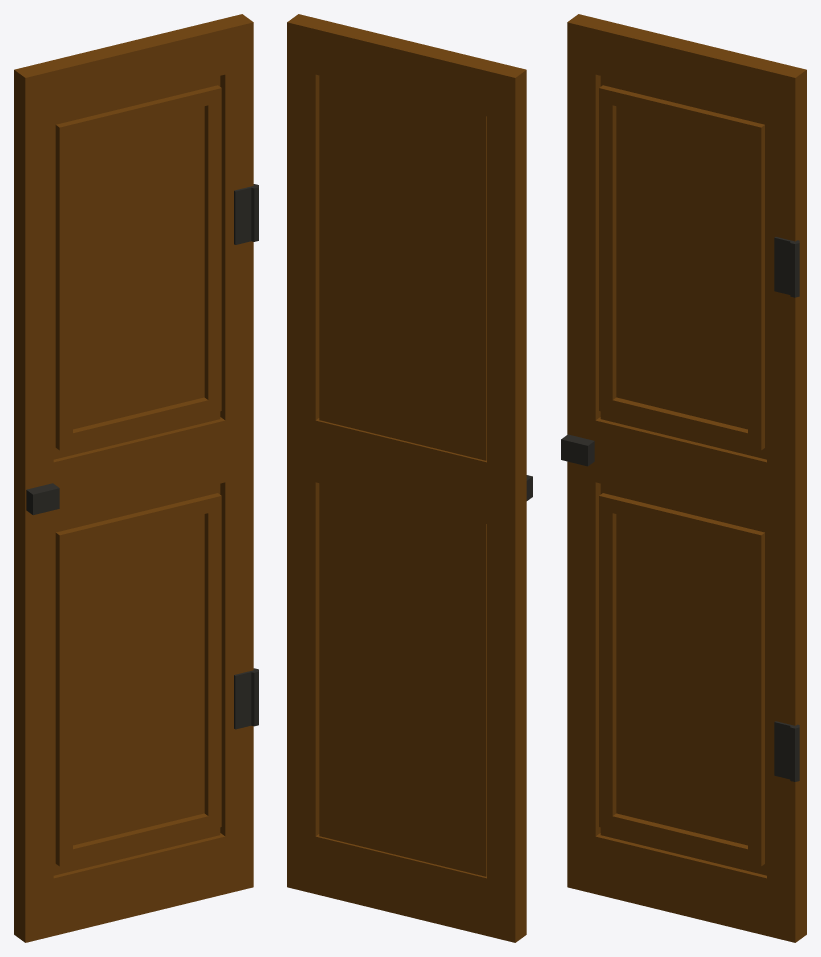
Rendered from SM_Wall_PhDoor_Right_01.fbx.
3 renders of one model, left to right at view 1: azimuth 30°, elevation 25°; view 2: azimuth 150°, elevation 25°; view 3: azimuth 330°, elevation 25°, orthographic.
Visible parts, largest first — view 1: SM_Wall_PhDoor_Right_01; view 2: SM_Wall_PhDoor_Right_01; view 3: SM_Wall_PhDoor_Right_01.
Boxes of the visible parts, x1,y1,x2,y2 form: SM_Wall_PhDoor_Right_01: [14, 14, 258, 942]; SM_Wall_PhDoor_Right_01: [287, 14, 532, 942]; SM_Wall_PhDoor_Right_01: [561, 14, 806, 942].
Bounding box in the file's own units: 0.592 × 2.1 × 0.08.
1 material, 1 textured.
